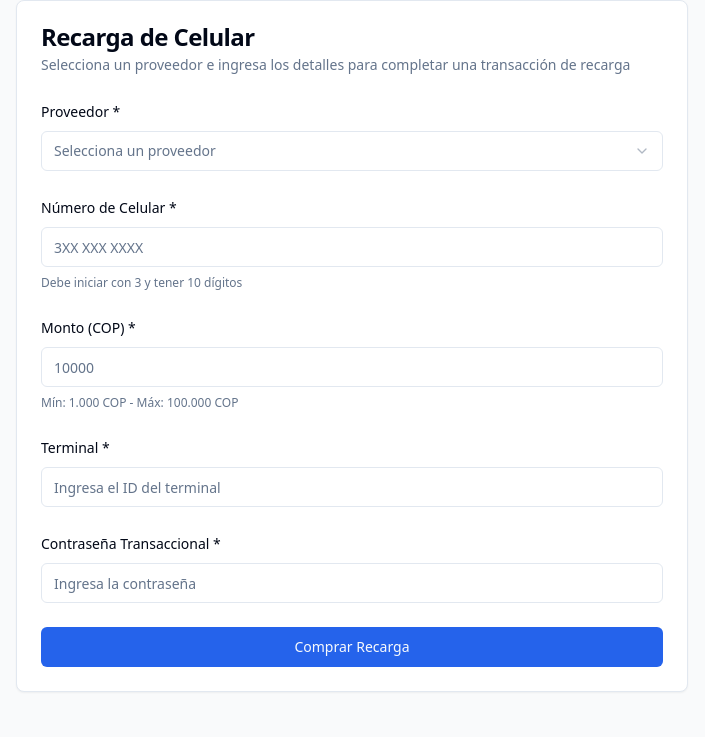
Test: TopUpPage › Business Rule: Amount Validation › should show error for amount greater than 100000
Type "150000" into the field labelled "Monto (COP) *".
click(352, 367); type("150000")  # box [41,347,663,387]
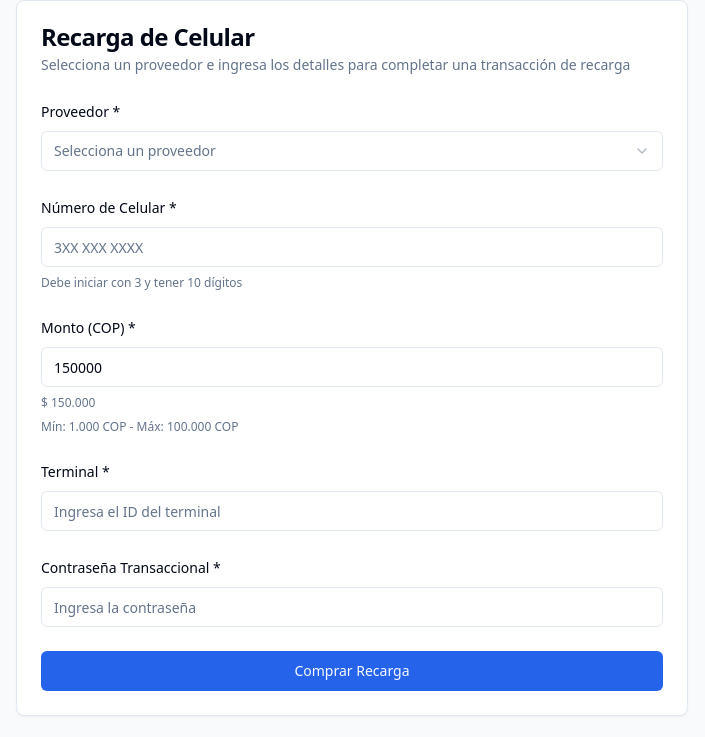
Leave the field labelled "Monto (COP) *", box [41,347,663,387]
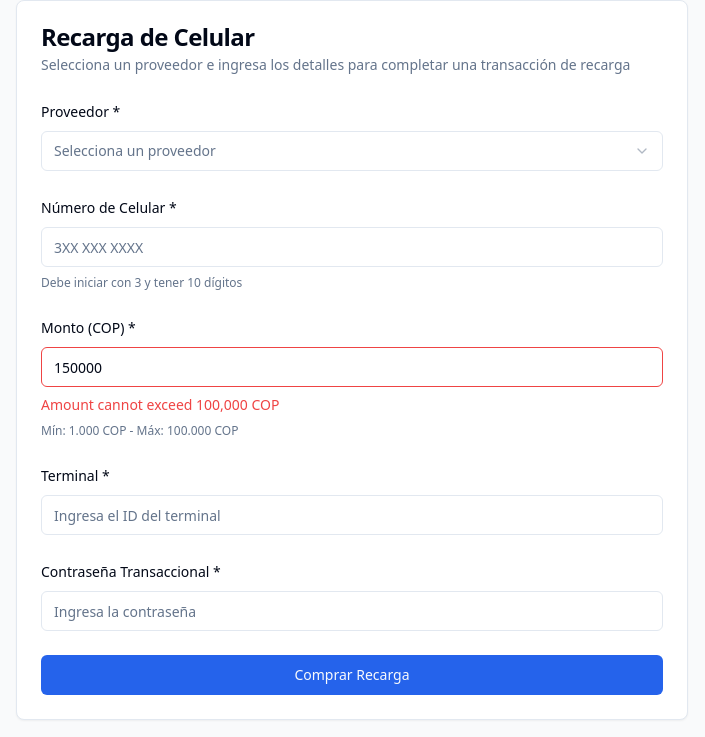
expect the text "Amount cannot exceed 100,000 COP" is shown: met, box [41,395,280,414]
